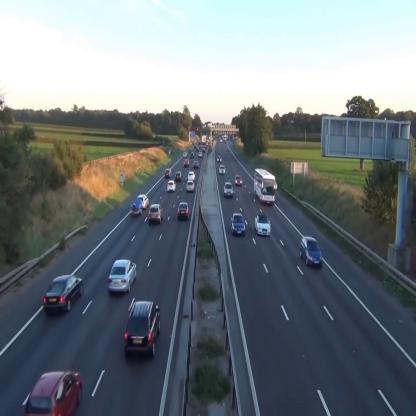car: (22, 371, 82, 416), (124, 301, 161, 357), (43, 274, 84, 314), (108, 259, 137, 293), (299, 236, 323, 268), (254, 215, 272, 237), (231, 212, 245, 235), (149, 204, 163, 224), (177, 202, 190, 220), (137, 194, 149, 208), (186, 179, 195, 193), (224, 182, 233, 196), (167, 179, 176, 192), (188, 170, 195, 182), (164, 168, 172, 178), (235, 174, 242, 185), (175, 171, 182, 181), (219, 164, 226, 174), (183, 158, 189, 166), (217, 155, 222, 162), (194, 160, 198, 168)
lorry: (254, 168, 277, 205)
